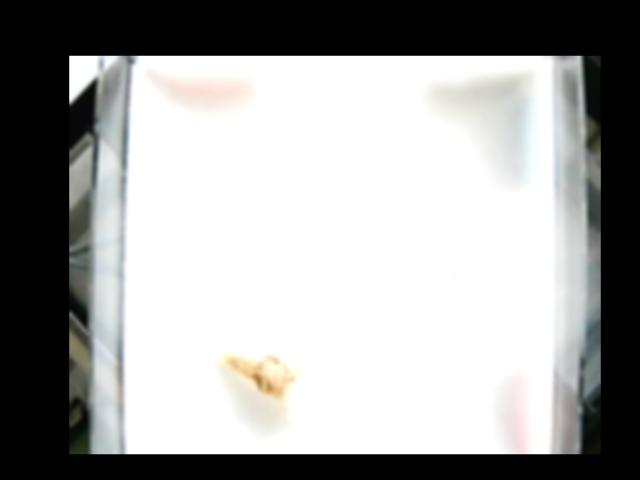Mooli: (212, 349, 337, 430)
